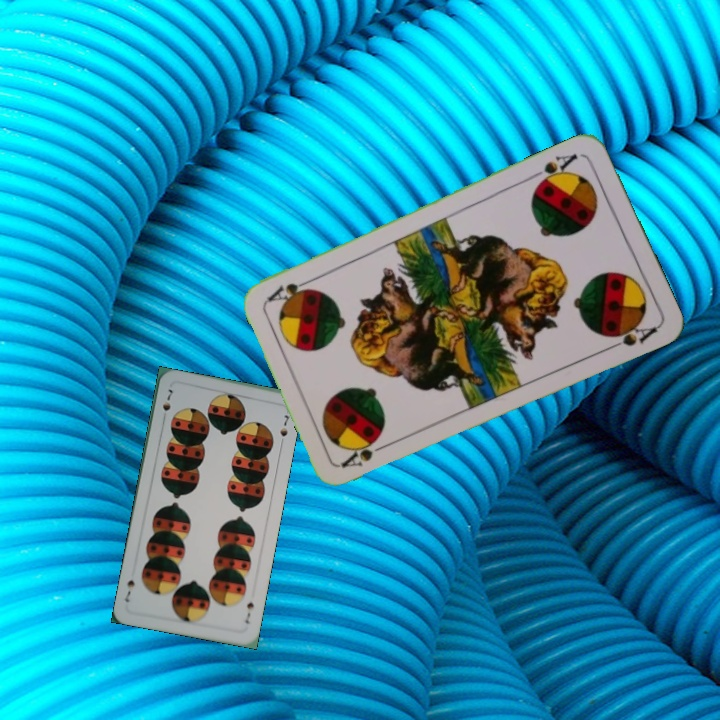S7: (158, 385, 175, 424), (241, 598, 256, 627)
SA: (527, 149, 581, 190), (337, 433, 394, 471)
